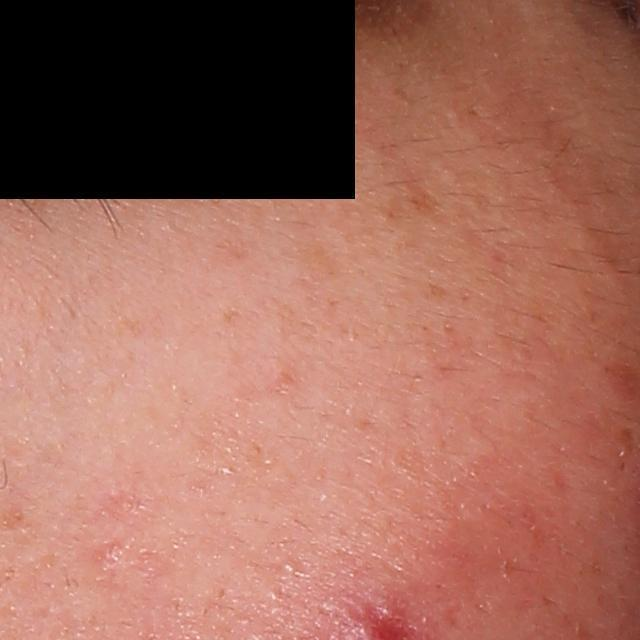melasma: (380, 184, 447, 224), (174, 174, 235, 211)
